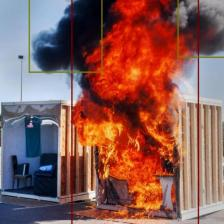fire: (71, 0, 199, 224)
smoke: (28, 0, 102, 72), (177, 0, 224, 57)
